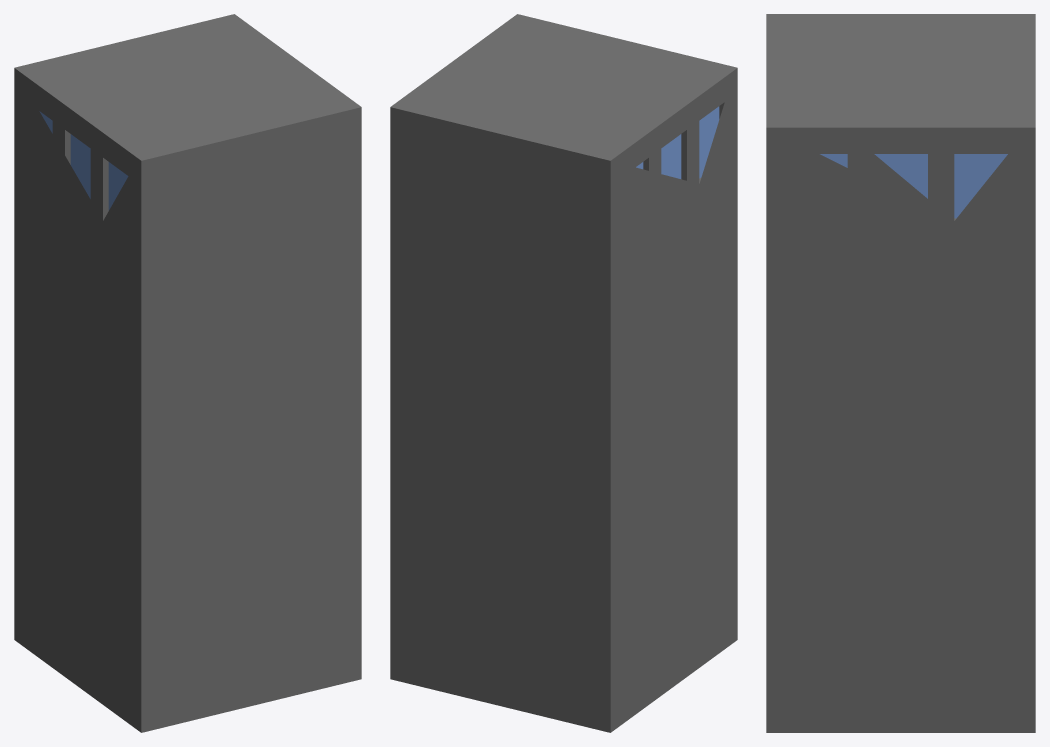
The model's file is Building.fbx.
3 renders of one model, left to right at view 1: azimuth 30°, elevation 25°; view 2: azimuth 150°, elevation 25°; view 3: azimuth 270°, elevation 25°, orthographic. The views are drawn at different scales.
Parts seen in each view (by area): view 1: Cube; view 2: Cube; view 3: Cube.
Part boxes in pixels (x1,y1,x2,y2): Cube: (14,14,361,732); Cube: (390,14,737,732); Cube: (766,14,1035,732).
Bounding box in the file's own units: 301 × 748 × 301.
